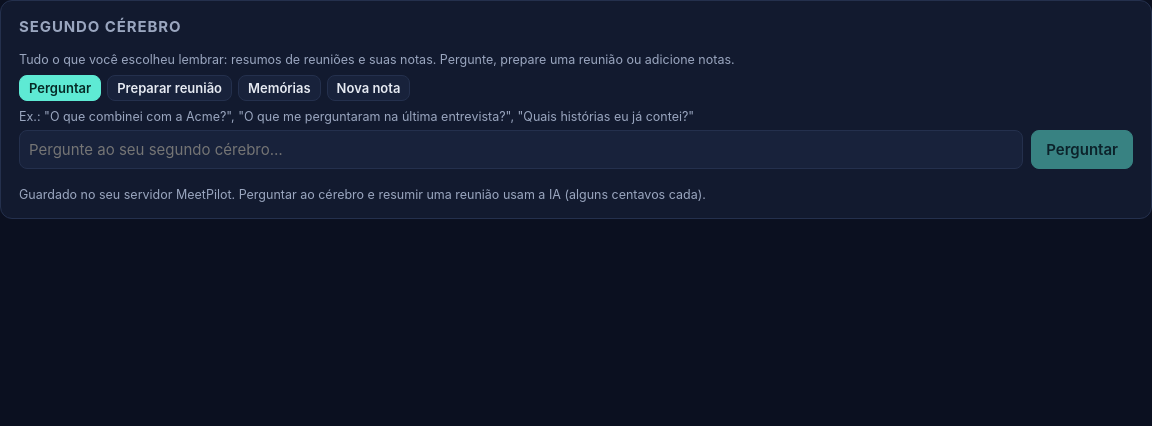
it: BrainPanel › asks the brain with the conversation so far and shows the sources
The width and height of the screenshot is (1152, 426).
Type "O que combinei com a Acme?" into the field labelled "Pergunte ao seu segundo cérebro…" at (521, 150), box [19, 130, 1023, 169]
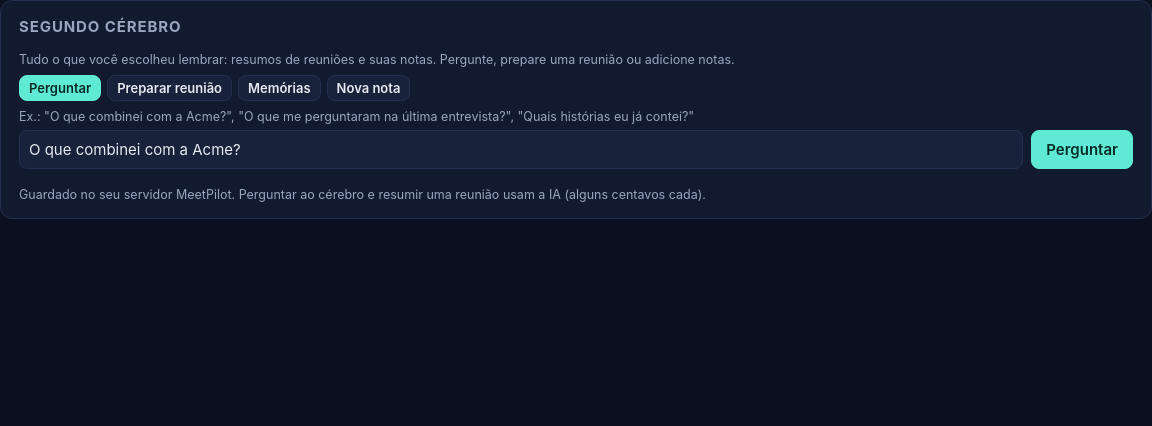
Click the button "Perguntar" at (1082, 150), box [1031, 130, 1133, 169]
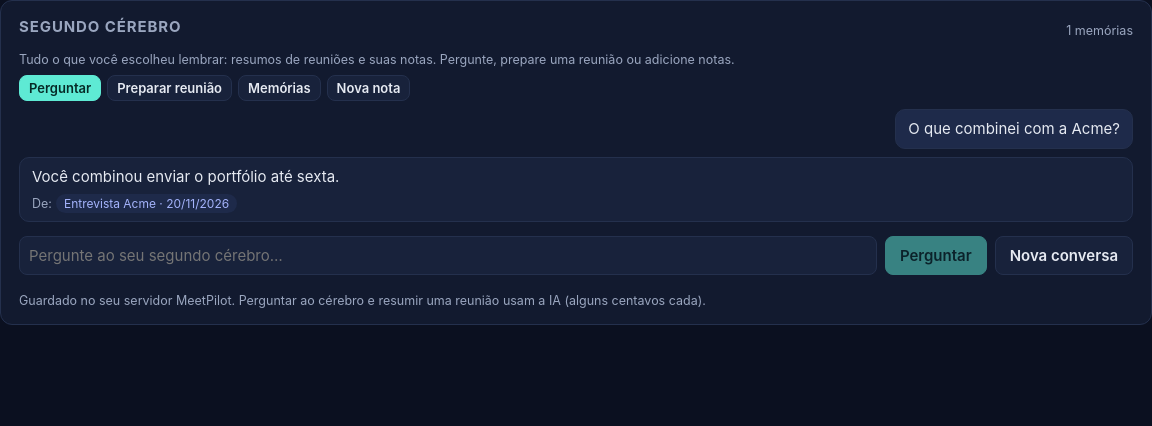
Check: the text "Você combinou enviar o portfólio até sexta." is shown, box [32, 167, 339, 186]
A source opens that memory.
Click the button "Entrevista Acme · 20/11/2026" at (146, 203), box [56, 194, 237, 212]
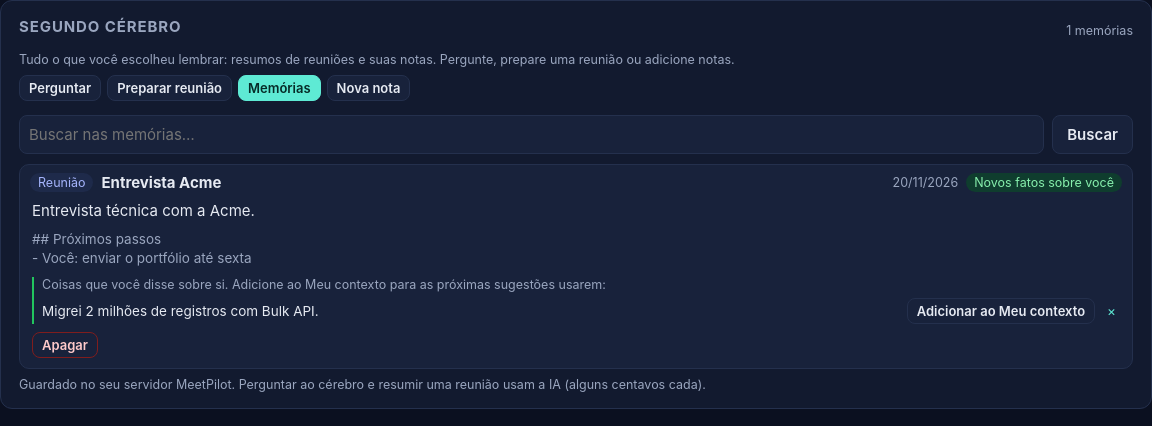
Check: the text "Entrevista técnica com a Acme." is shown, box [32, 201, 255, 220]
